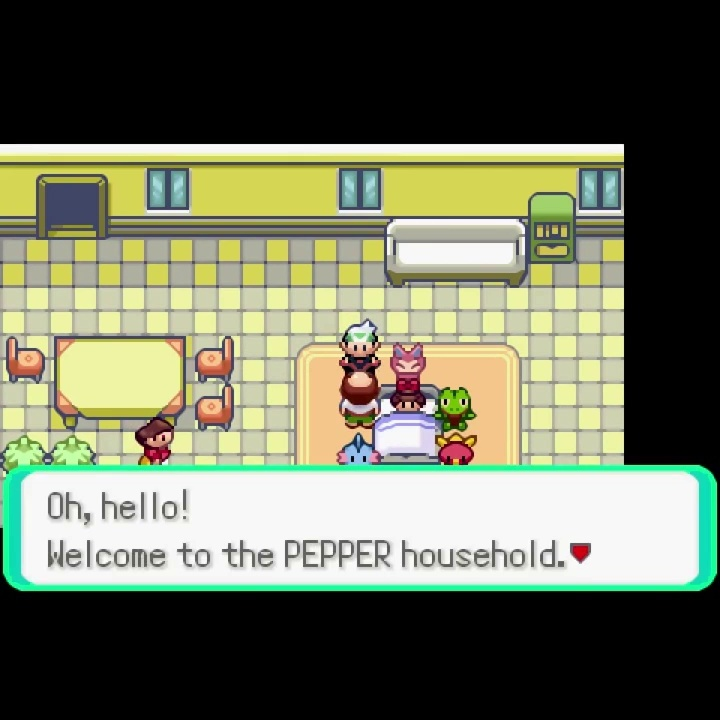agent: (337, 318, 384, 377)
npc: (336, 370, 381, 433), (133, 416, 176, 465), (388, 377, 430, 419)
